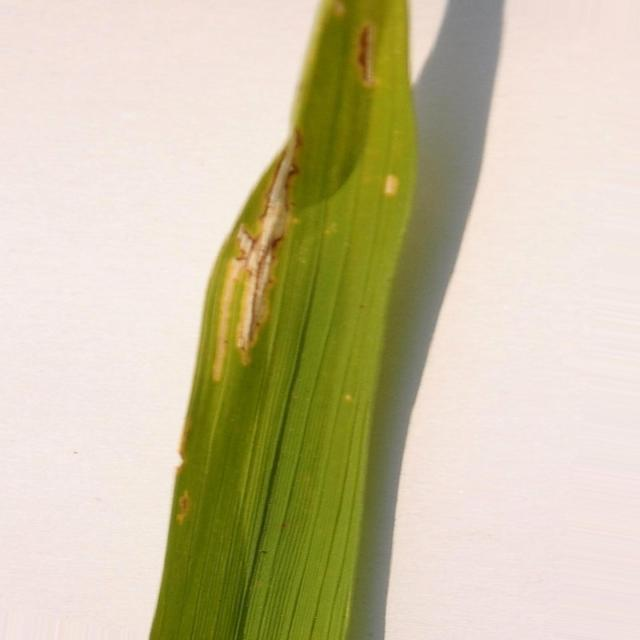Bacterial_Leaf_Blight: (209, 125, 305, 385), (356, 24, 375, 86), (384, 175, 399, 196)
